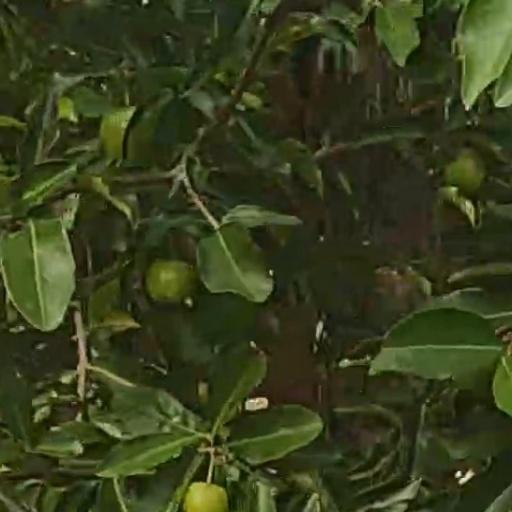acerola_verde: (146, 260, 195, 302), (186, 481, 227, 510)
